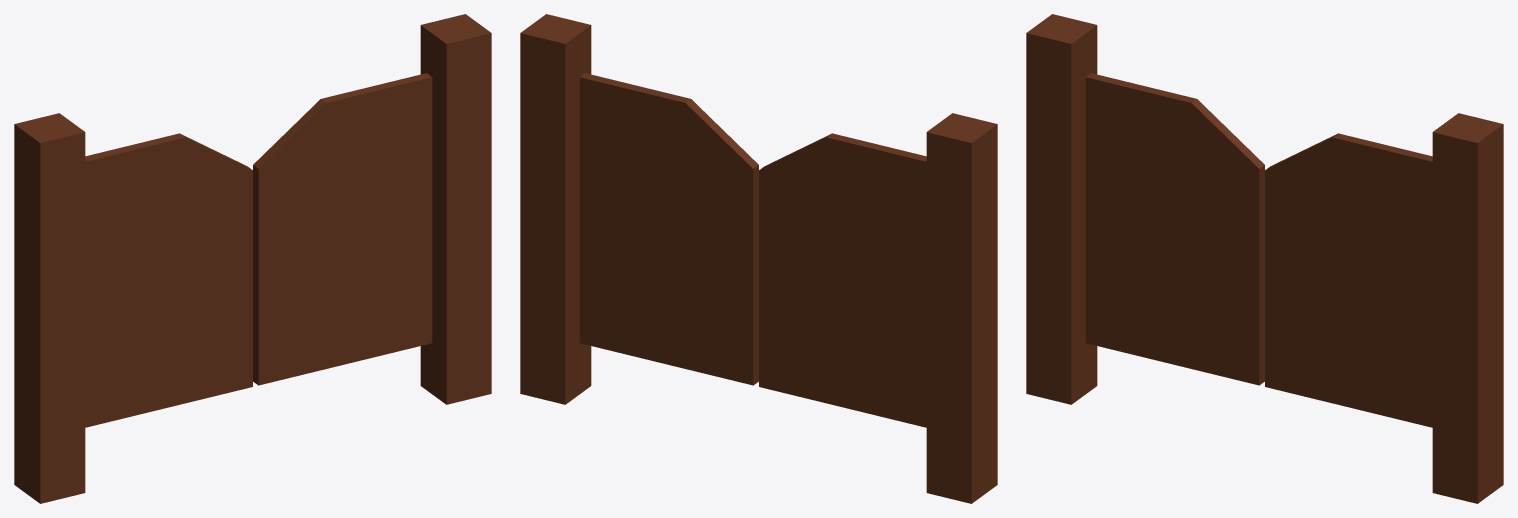
Rendered from swing_doors.fbx.
3 renders of one model, left to right at view 1: azimuth 30°, elevation 25°; view 2: azimuth 150°, elevation 25°; view 3: azimuth 330°, elevation 25°, orthographic.
Visible parts, largest first — view 1: Frame, DoorRight, DoorLeft; view 2: Frame, DoorRight, DoorLeft; view 3: Frame, DoorLeft, DoorRight.
Part boxes in pixels (<box>): Frame: <box>14,14,491,503</box>; DoorRight: <box>253,73,432,385</box>; DoorLeft: <box>85,133,252,427</box>; Frame: <box>520,14,997,503</box>; DoorRight: <box>579,73,758,385</box>; DoorLeft: <box>759,133,926,427</box>; Frame: <box>1026,14,1503,503</box>; DoorLeft: <box>1085,73,1264,385</box>; DoorRight: <box>1265,133,1432,427</box>.
Bounding box in the file's own units: 1.38 × 1.06 × 0.1383.
